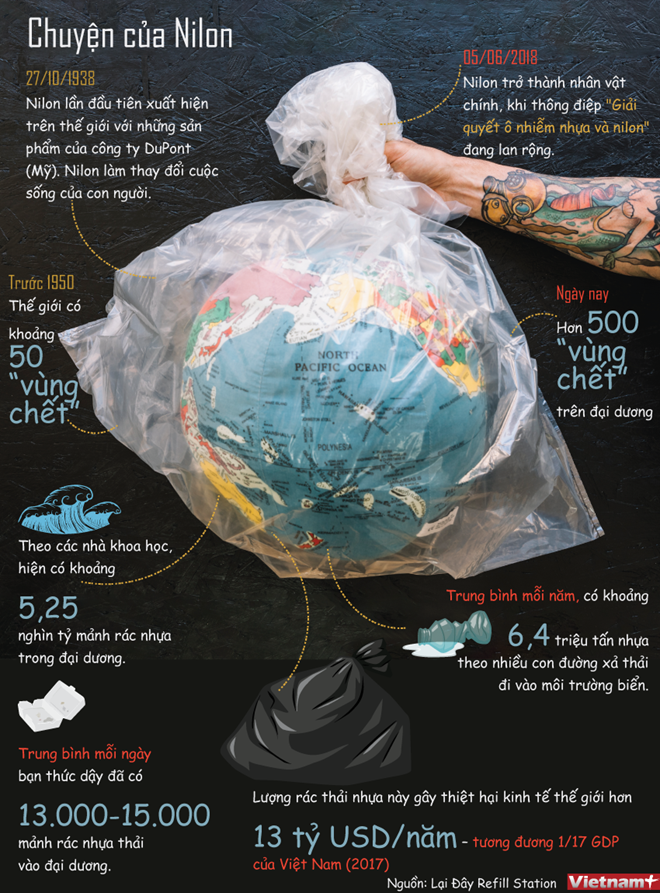plastic bag: (56, 60, 603, 580)
